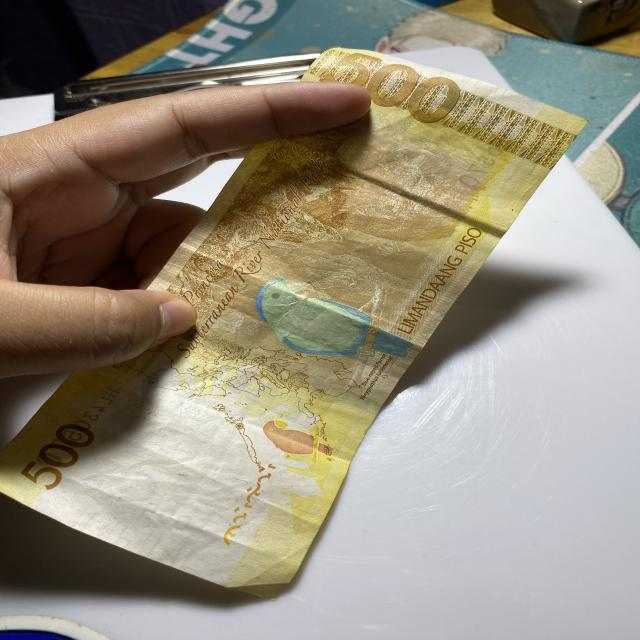500_big_parrot: (258, 275, 410, 364)
500_parrot_watermark: (257, 416, 333, 456)
value_watermark: (141, 502, 191, 530)
